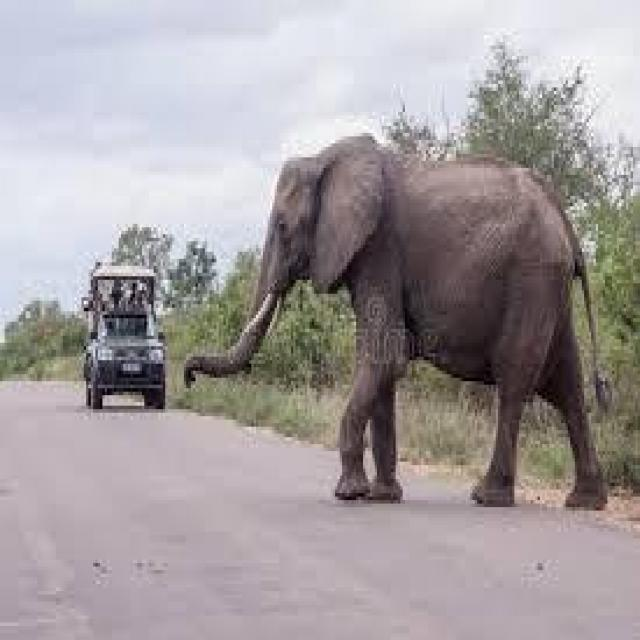Elephant: (174, 98, 626, 516)
